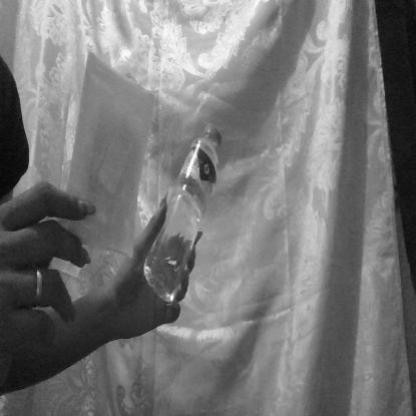Plastic Bottle: (152, 112, 245, 306)
